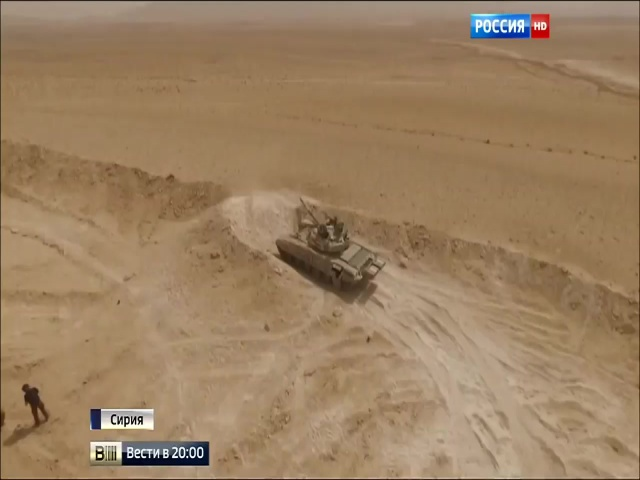person: (19, 380, 50, 428)
vehicle: (274, 217, 387, 288)
